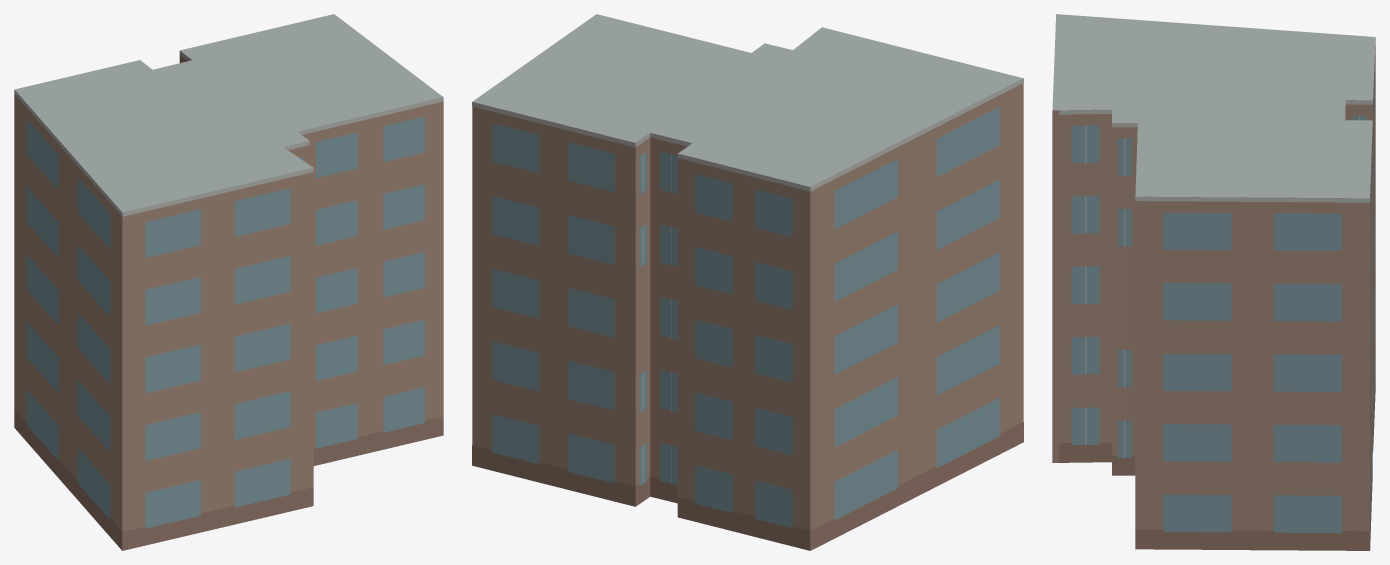
The model's file is survey-upis-32964988.glb.
3 views of the same model, side by side, from view 1: azimuth 30°, elevation 25°; view 2: azimuth 150°, elevation 25°; view 3: azimuth 270°, elevation 25° (orthographic). The views are drawn at different scales.
Visible parts, largest first — view 1: survey-upis-32964988.tmp; view 2: survey-upis-32964988.tmp; view 3: survey-upis-32964988.tmp.
Part boxes in pixels (x1,y1,x2,y2): survey-upis-32964988.tmp: (14, 14, 443, 550); survey-upis-32964988.tmp: (472, 14, 1023, 550); survey-upis-32964988.tmp: (1052, 14, 1375, 550).
Size of the model in its own units: 21.87 by 19.5 by 16.2.
